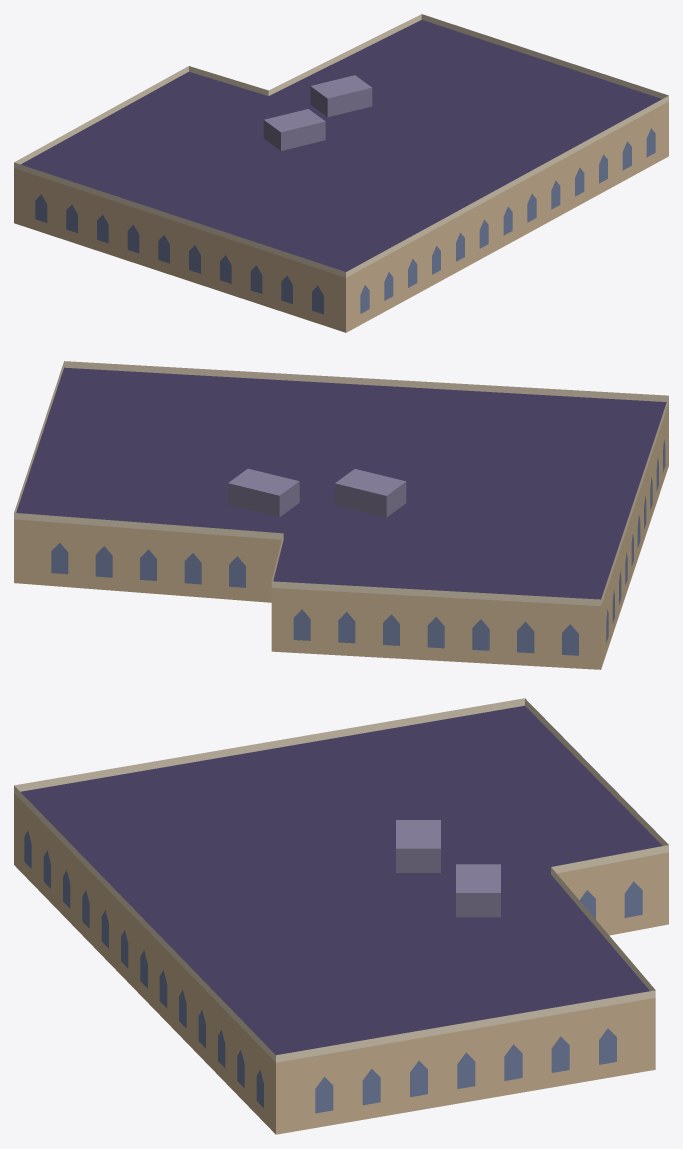
Rendered from b-007-day.glb.
3 renders of one model, top to bottom at view 1: azimuth 30°, elevation 25°; view 2: azimuth 150°, elevation 25°; view 3: azimuth 270°, elevation 25°, orthographic. The views are drawn at different scales.
Visible parts, largest first — view 1: campus/b-007-day-0; view 2: campus/b-007-day-0; view 3: campus/b-007-day-0.
Part boxes in pixels (x1,y1,x2,y2): campus/b-007-day-0: (14,14,668,332); campus/b-007-day-0: (14,361,668,669); campus/b-007-day-0: (14,698,668,1134).
Size of the model in its own units: 56.33 by 7.1 by 43.67.
